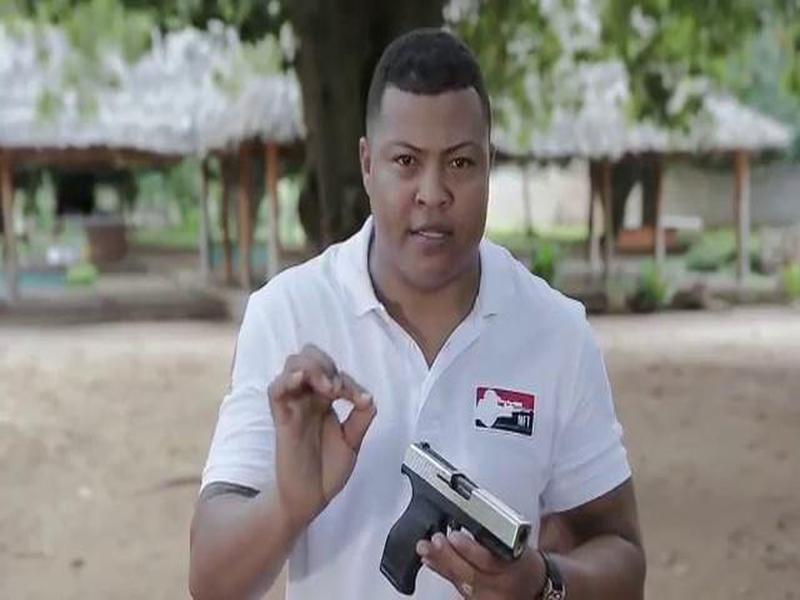Pistola: (377, 428, 538, 600)
